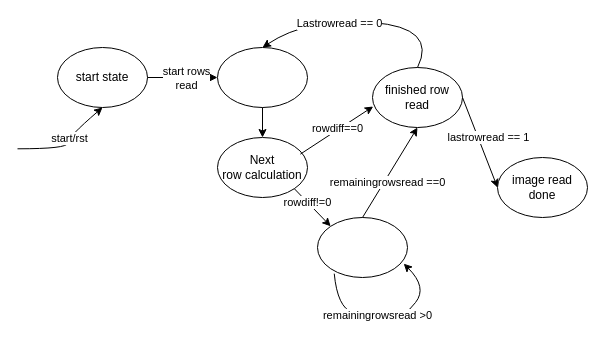
Some shapes in this 605 by 339 pixel diagram are drawn without their labels. Here are the shapes that lost their labels. From the top down, the centre of each, then its label:
pixel 262 77: rowdiff calc state
pixel 362 247: processing state
